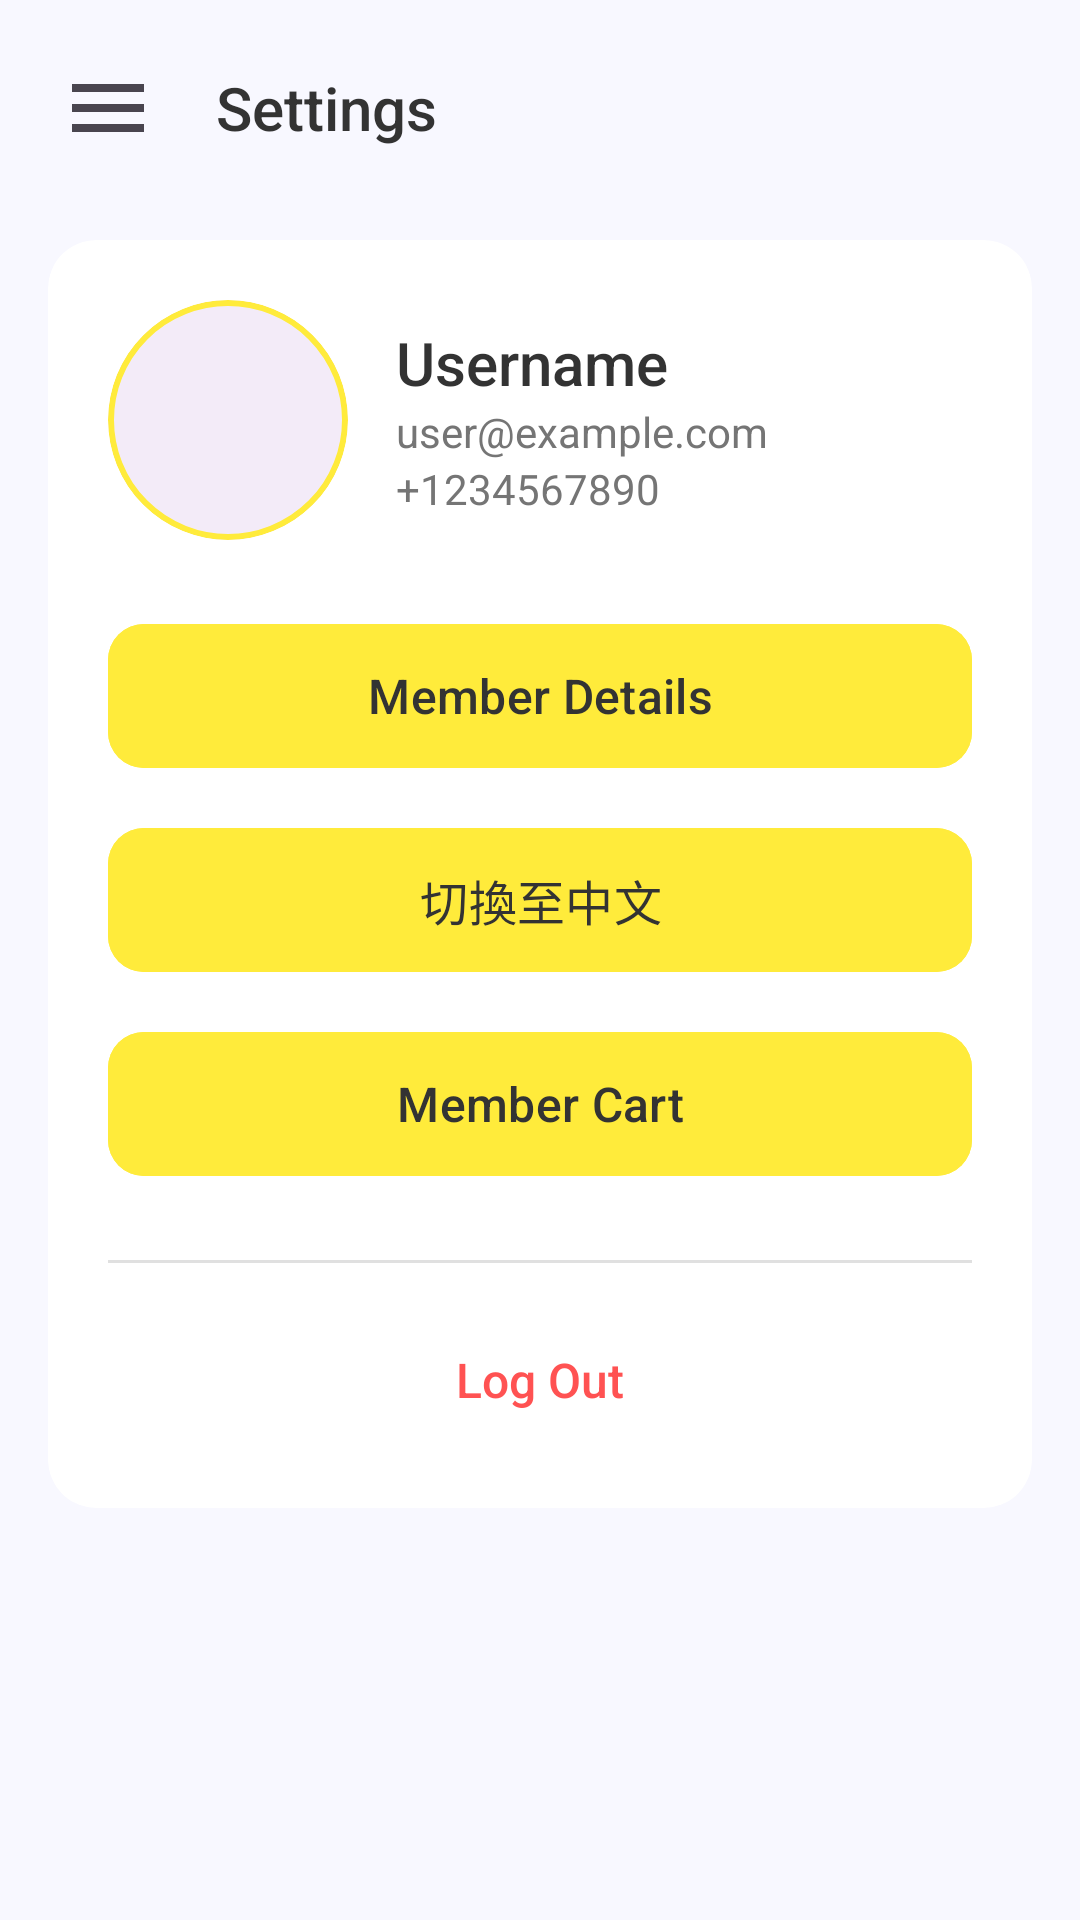

Icon click points for this 1080*1920 phone screenshot, format point (x, y):
Menu: point (108, 108)
